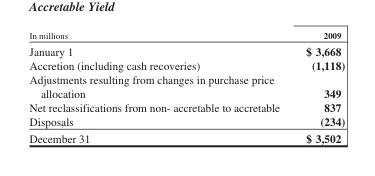table: (28, 29, 344, 144)
table column: (28, 29, 292, 144), (292, 29, 344, 144)
table column header: (28, 29, 344, 42)
table row: (28, 72, 344, 99), (28, 42, 344, 58), (28, 113, 344, 129), (28, 129, 344, 144), (28, 58, 344, 72), (28, 99, 344, 113), (28, 29, 344, 42)
